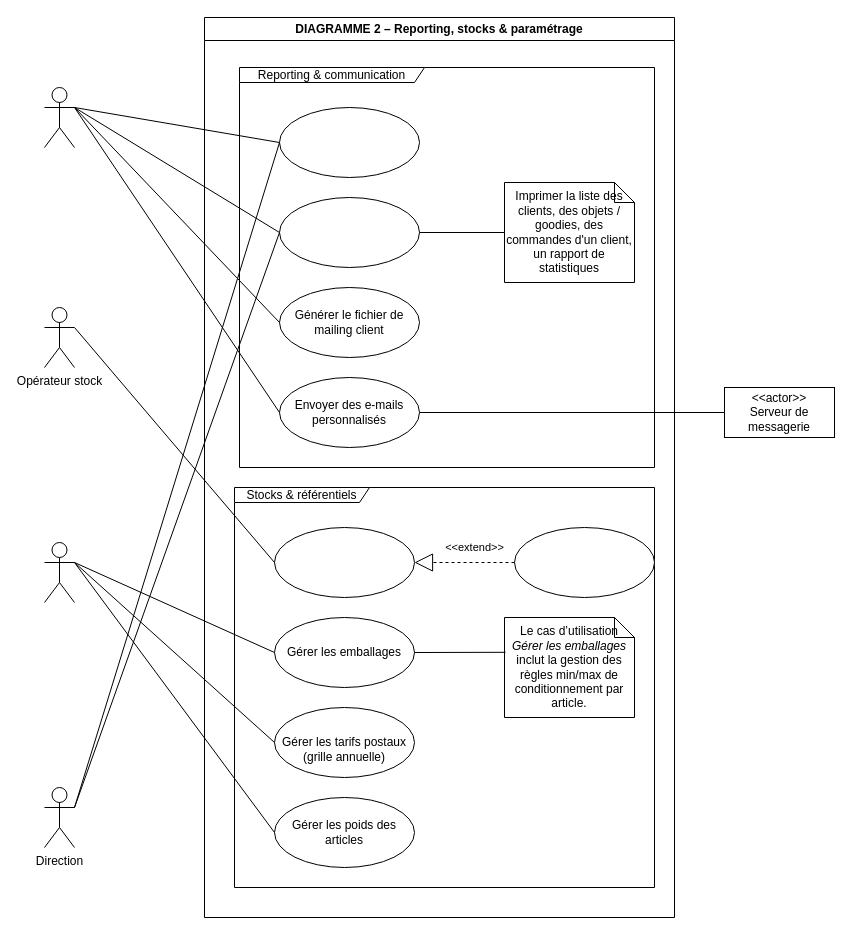
This 852x935 diagram has some shape labels left out. Here are the shapes that lost their labels. From the top down, the centre of each, then its label:
At (59,117): "Opérateur colis".
At (349,142): "Visualiser les statistiques".
At (349,232): "Générer des impressions globales".
At (59,572): "Administrateur système".
At (344,562): "Gérer les stocks de goodies (entrée et sortie)".
At (584,562): "Réaliser un inventaire".
